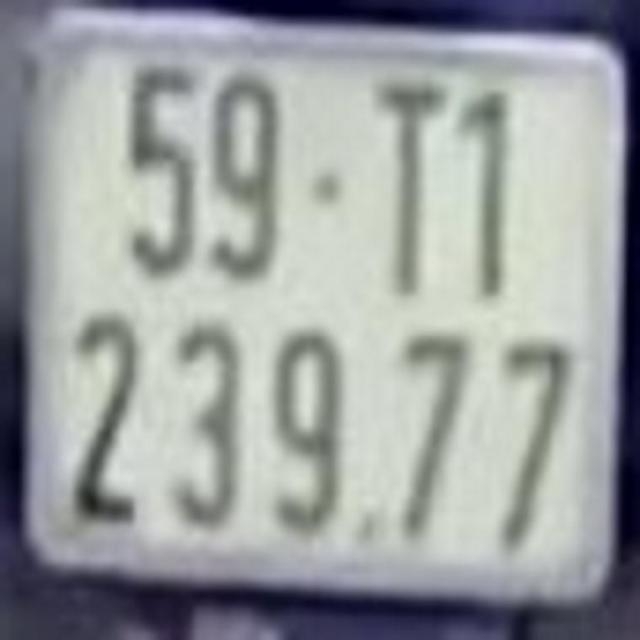1: (460, 87, 504, 290)
2: (75, 310, 141, 518)
3: (179, 320, 240, 527)
5: (128, 61, 203, 274)
7: (503, 335, 574, 547), (403, 330, 473, 535)
9: (208, 72, 276, 279), (272, 325, 334, 530)
T: (377, 77, 451, 296)
